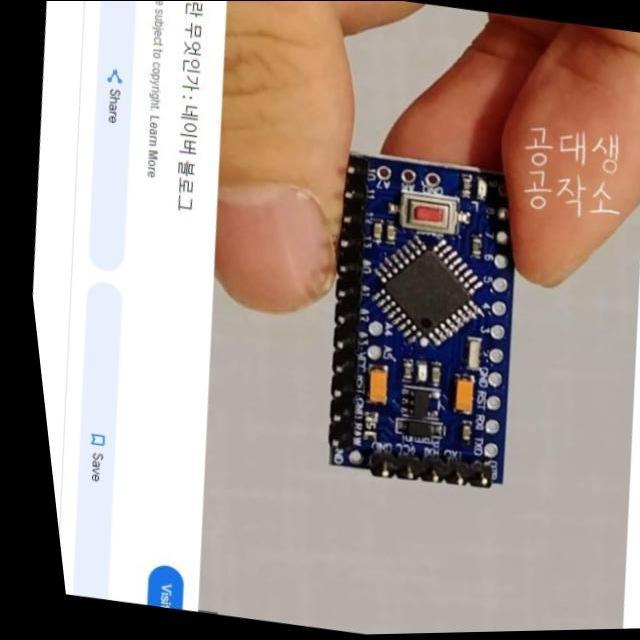Arduino-ProMini: (330, 156, 515, 488)
